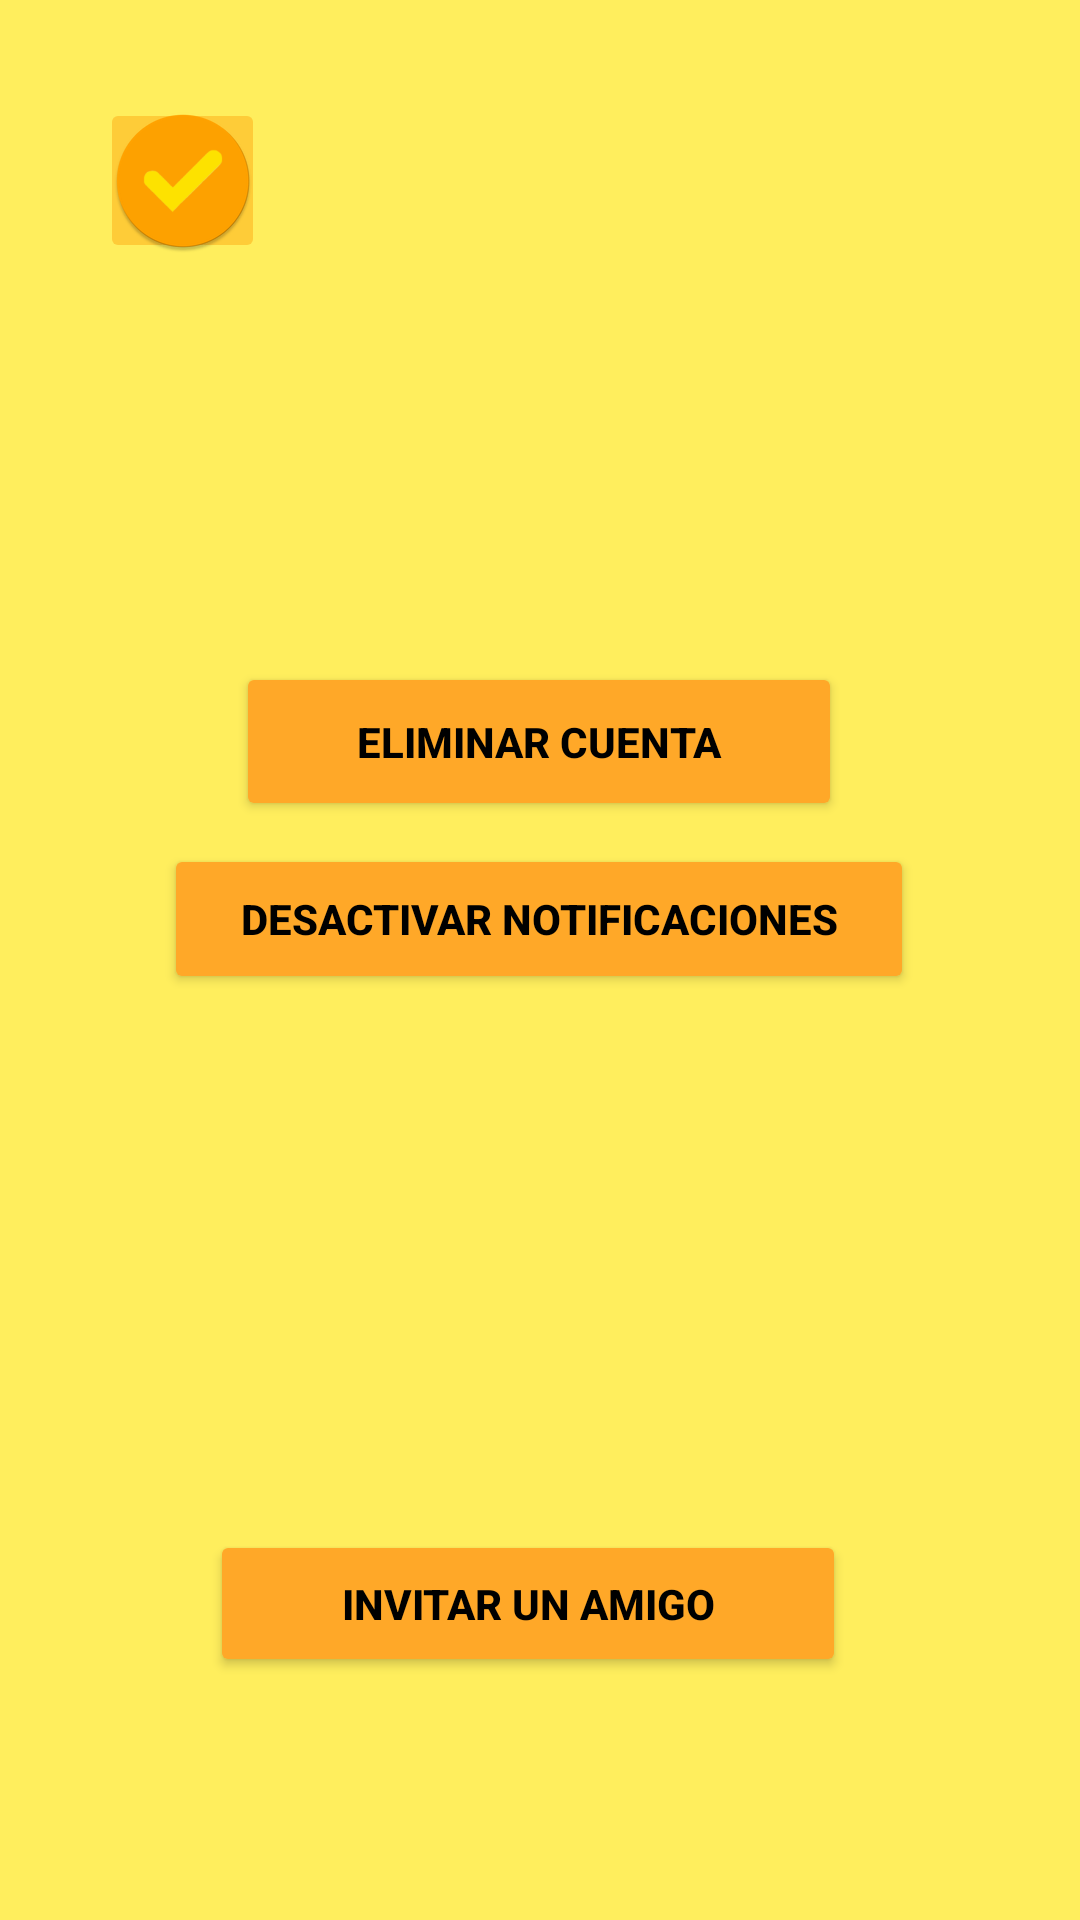

Icon bounding boxes for this 1080px x 1920px phone screenshot, format BBox(x1, y1, x2, y2):
tick correcto amarillo round: BBox(112, 115, 253, 250)
